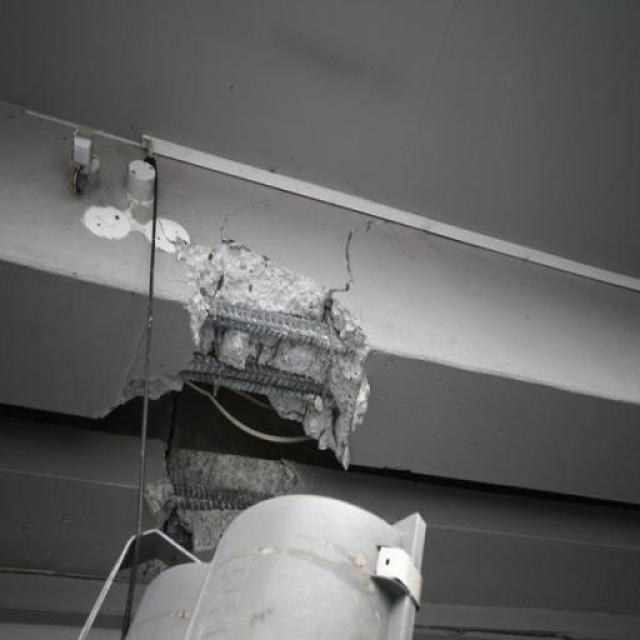D0w0: (116, 228, 370, 552), (361, 220, 378, 231)
